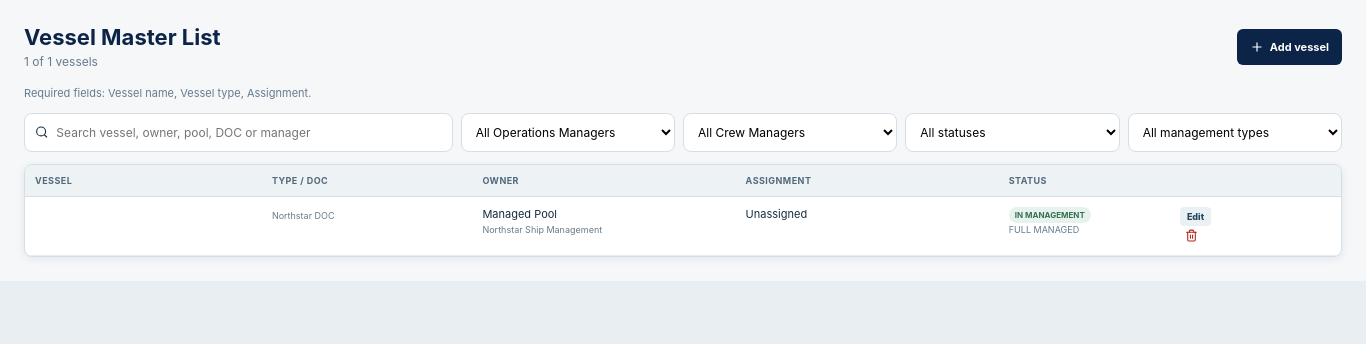
it: VesselMasterTable validation › shows inline validation for required vessel fields when editing
Click the button "Edit": [1196, 216] box x1=1180 y1=206 x2=1211 y2=226
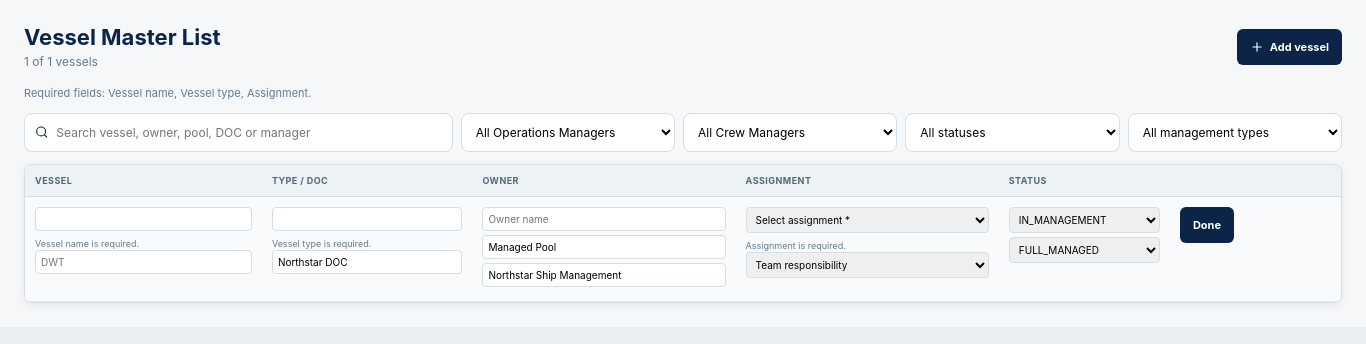
Now the text "Vessel name is required." is shown, box x1=35 y1=238 x2=139 y2=248
Now the text "Vessel type is required." is shown, box x1=272 y1=238 x2=371 y2=248
Now the text "Assignment is required." is shown, box x1=746 y1=240 x2=846 y2=250
